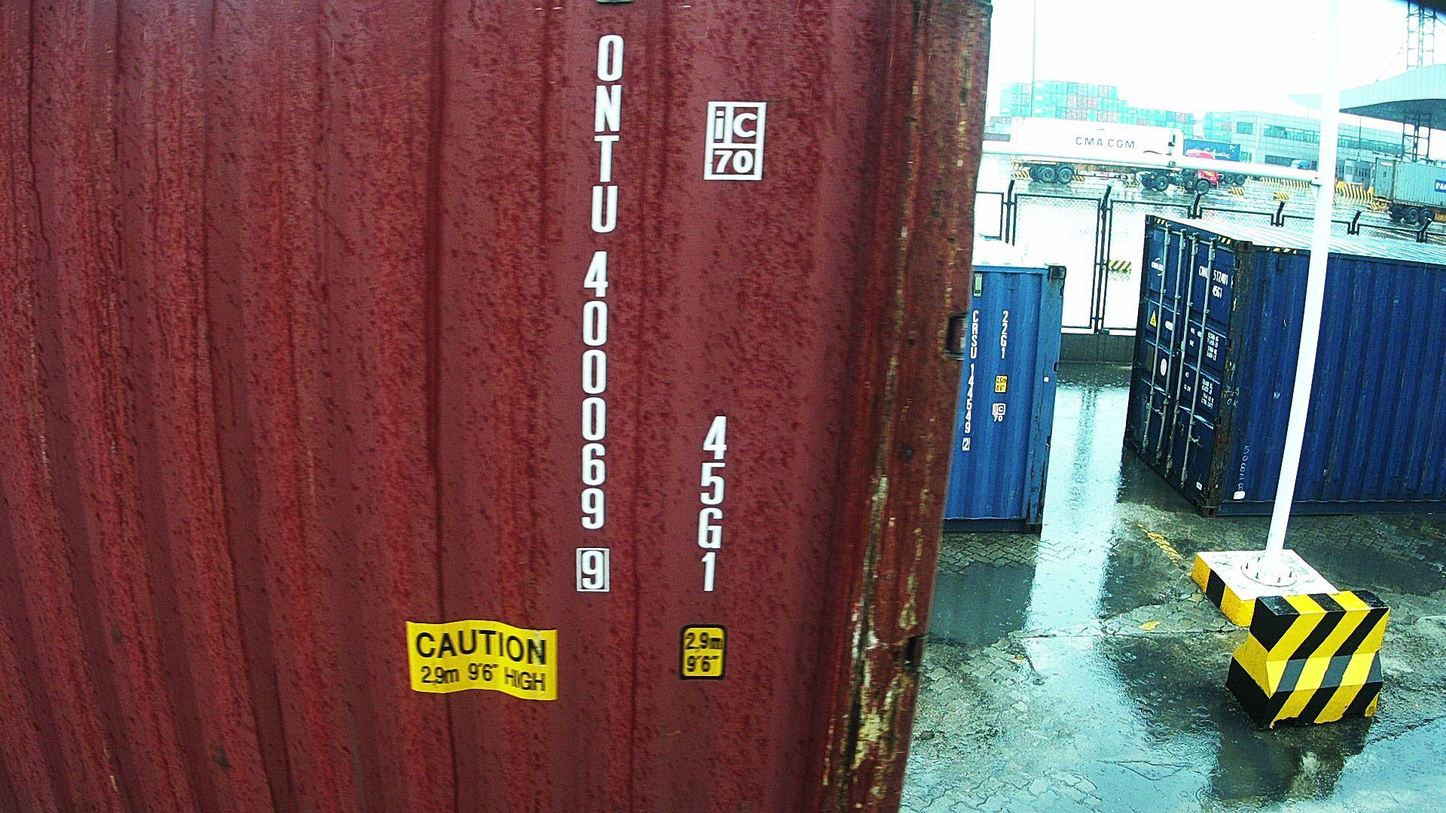container-numbers: (562, 26, 626, 601), (691, 410, 735, 598), (959, 307, 982, 454), (999, 308, 1011, 358)
